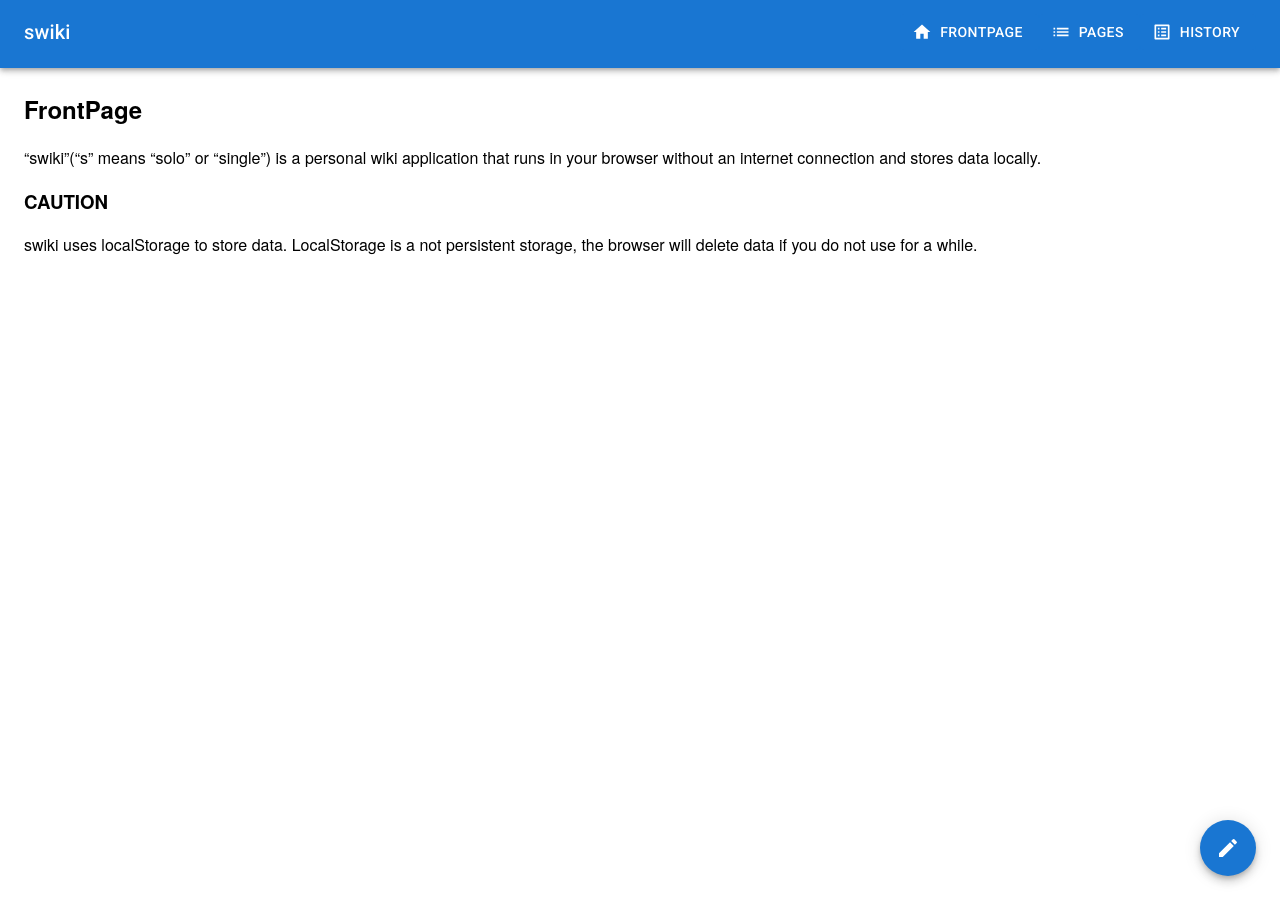
Test: route › navigation › top app bar › should move to Pages page from FrontPage when $heading button in app bar is pressed
Click the button "Pages".
click(1089, 32)  # box [1039,14,1140,50]
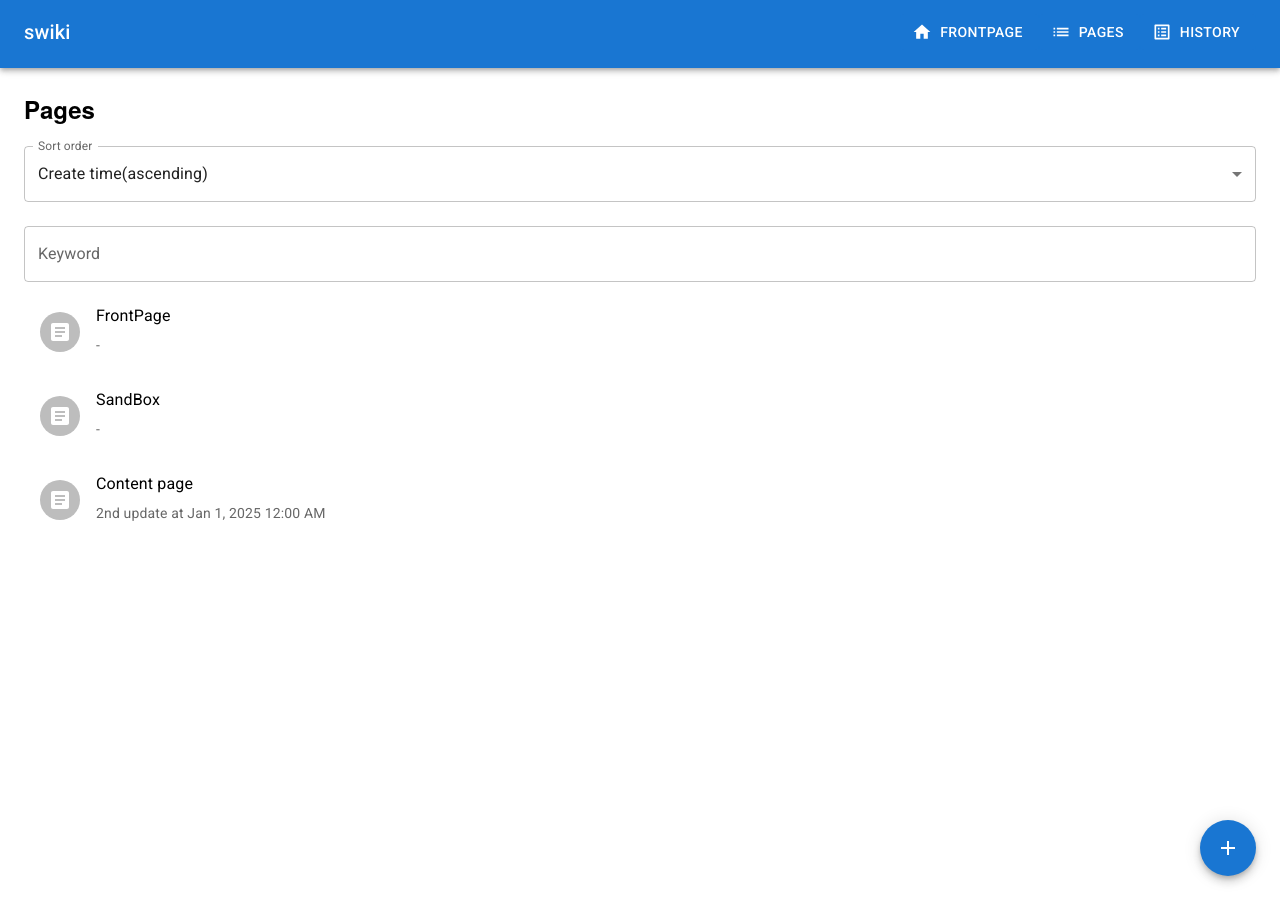
Now the heading "Pages" is shown, box [24,92,95,126]
